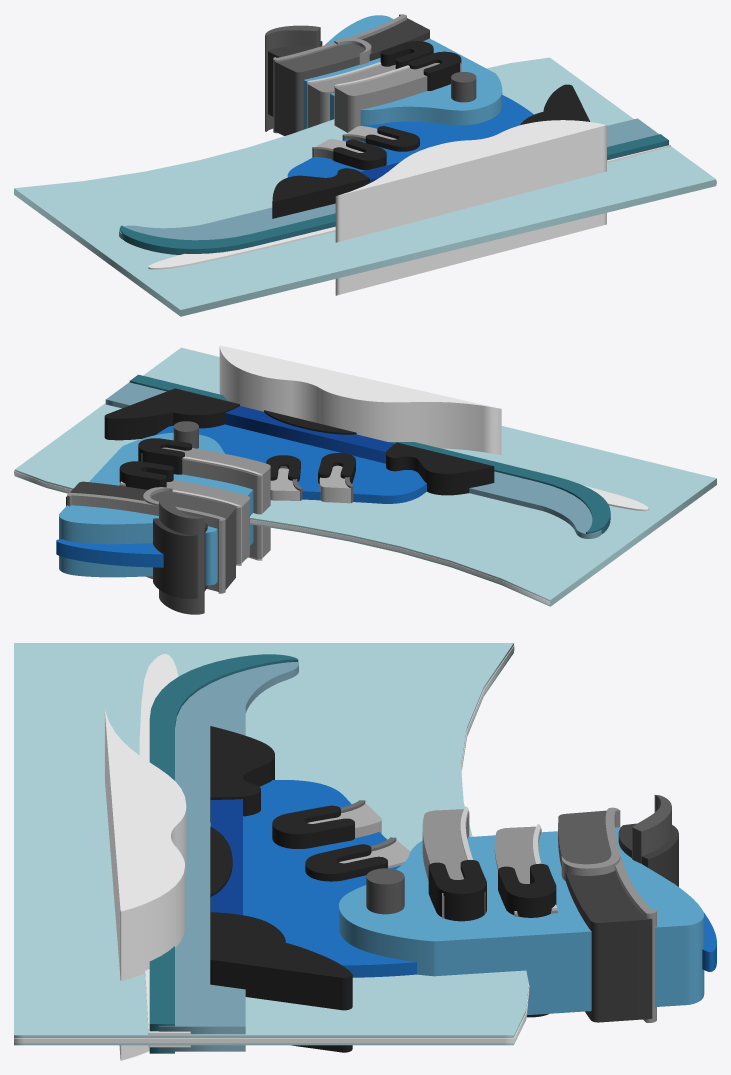
File: emoji_u1f3bf.glb
3 renders of one model, top to bottom at view 1: azimuth 30°, elevation 25°; view 2: azimuth 150°, elevation 25°; view 3: azimuth 270°, elevation 25°, orthographic. The views are drawn at different scales.
Visible parts, largest first — view 1: emoji_u1f3bf; view 2: emoji_u1f3bf; view 3: emoji_u1f3bf.
Boxes of the visible parts, <box> form: emoji_u1f3bf: <box>14,14,716,316</box>; emoji_u1f3bf: <box>14,345,716,614</box>; emoji_u1f3bf: <box>14,643,716,1060</box>.
Bounding box in the file's own units: 0.0339 × 0.006 × 0.0256.
